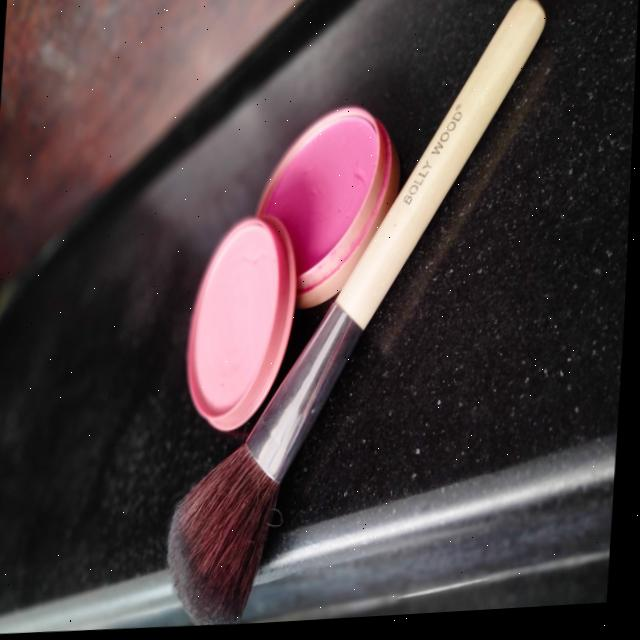blush: (247, 69, 385, 303)
brush: (147, 433, 300, 632)
